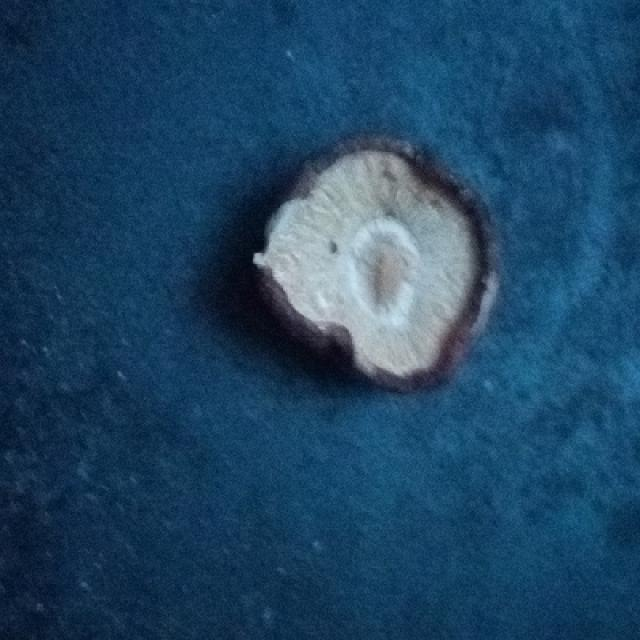Lentinus edodes: (246, 140, 498, 393)
